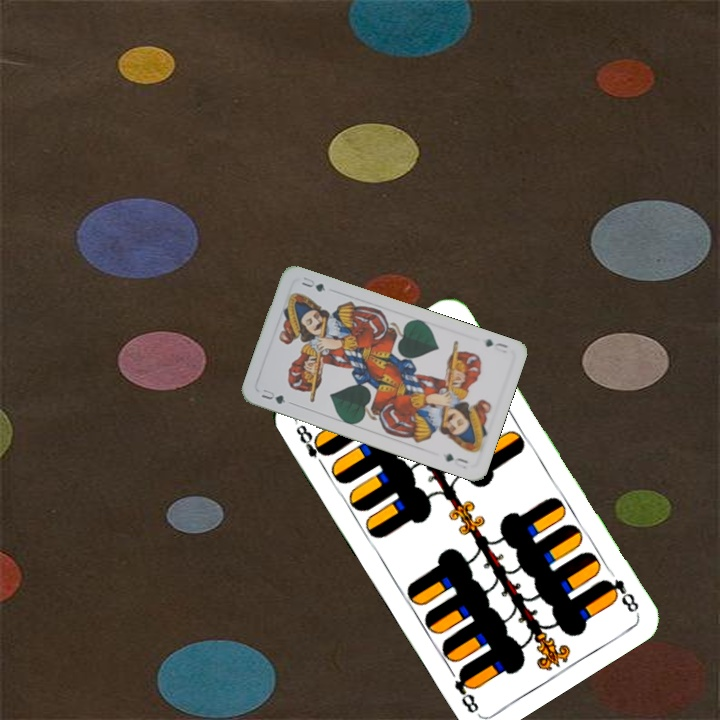E8: (291, 420, 332, 470), (598, 575, 642, 615)
GU: (257, 385, 290, 407), (481, 335, 510, 351)
